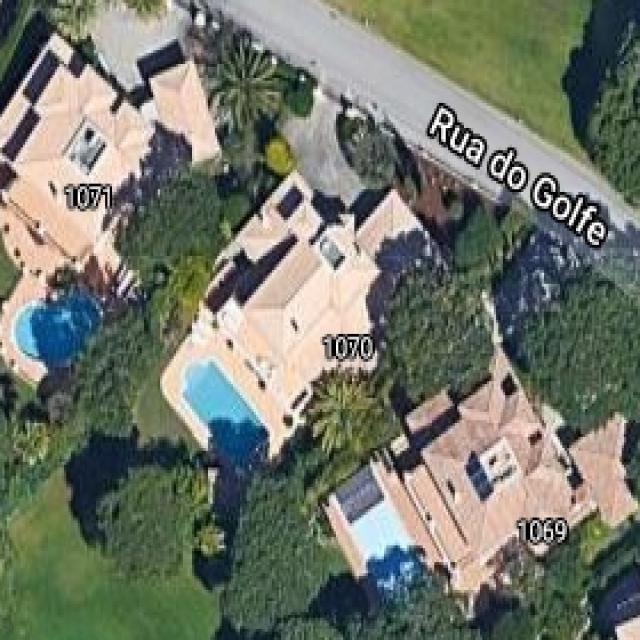pool: (309, 445, 448, 620), (156, 337, 294, 487), (8, 288, 114, 375)
